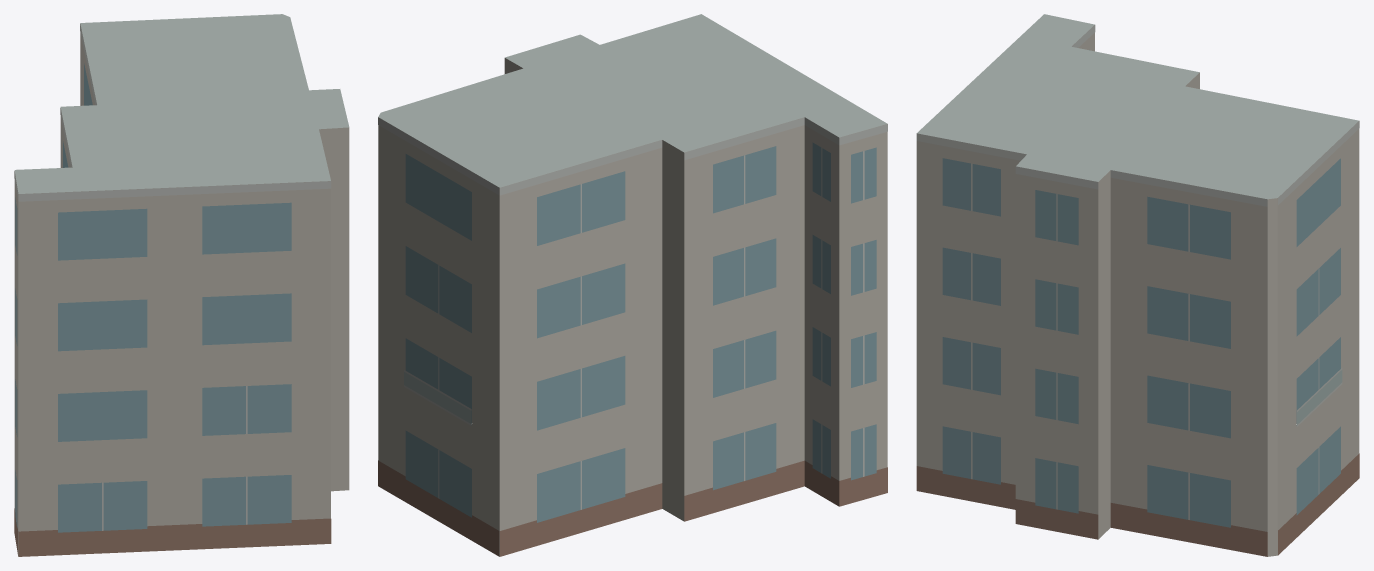
The model's file is survey-upis-32510639.glb.
3 renders of one model, left to right at view 1: azimuth 30°, elevation 25°; view 2: azimuth 150°, elevation 25°; view 3: azimuth 270°, elevation 25°, orthographic. The views are drawn at different scales.
Parts seen in each view (by area): view 1: survey-upis-32510639.tmp; view 2: survey-upis-32510639.tmp; view 3: survey-upis-32510639.tmp.
Boxes of the visible parts, x1,y1,x2,y2 form: survey-upis-32510639.tmp: (14,14,349,556); survey-upis-32510639.tmp: (378,14,887,556); survey-upis-32510639.tmp: (916,14,1359,556).
Size of the model in its own units: 12.74 by 11.46 by 12.87.
